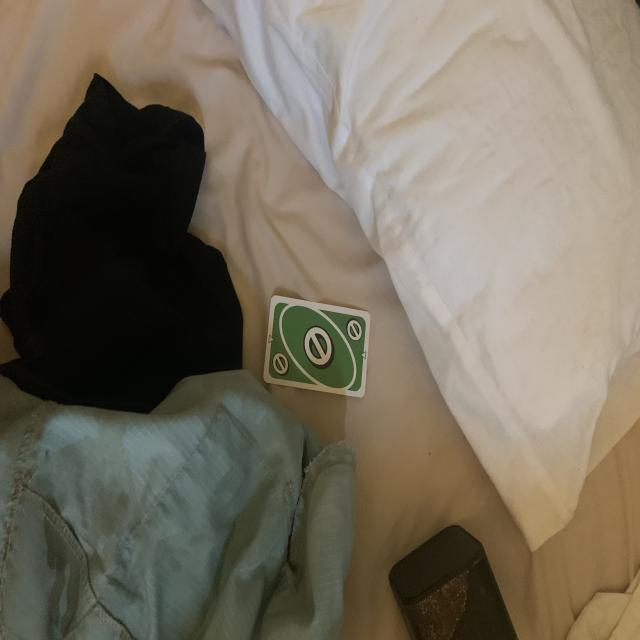lgreenskip-20: (344, 317, 364, 342)
